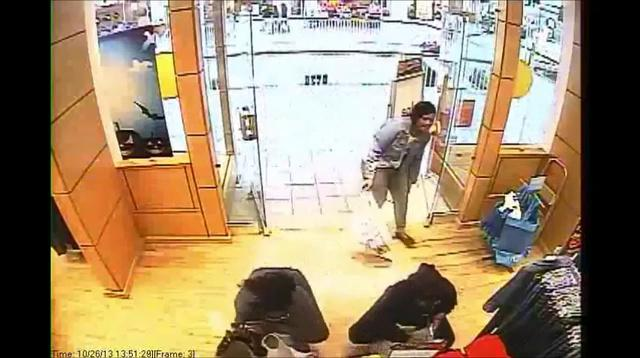Customer-Bagpack: (351, 197, 400, 262), (247, 309, 312, 355), (384, 318, 435, 358)
Regular: (373, 86, 463, 203)
Shoplifting: (225, 244, 339, 358), (350, 242, 456, 358)
